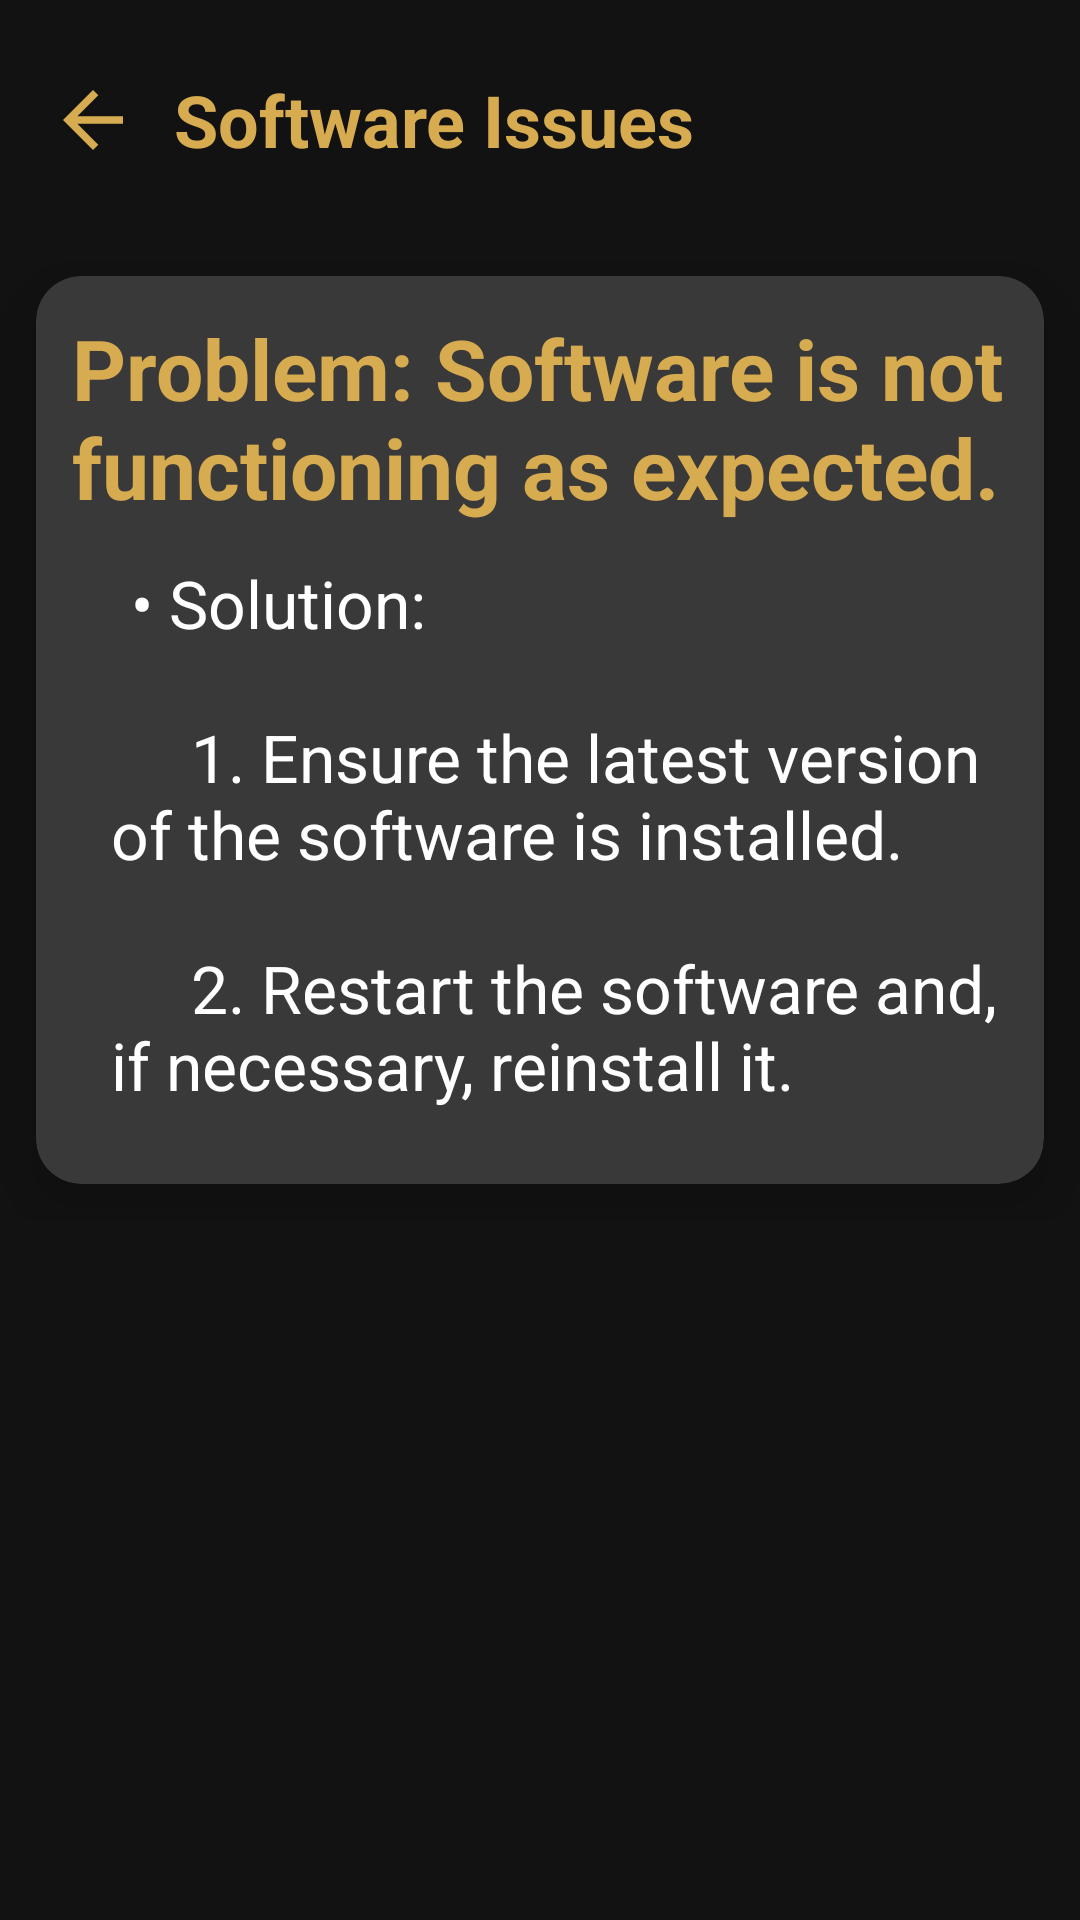

Screen size 1080x1920. Icon name, then its center in pixels as [x,y]:
arrow back: [93,120]
